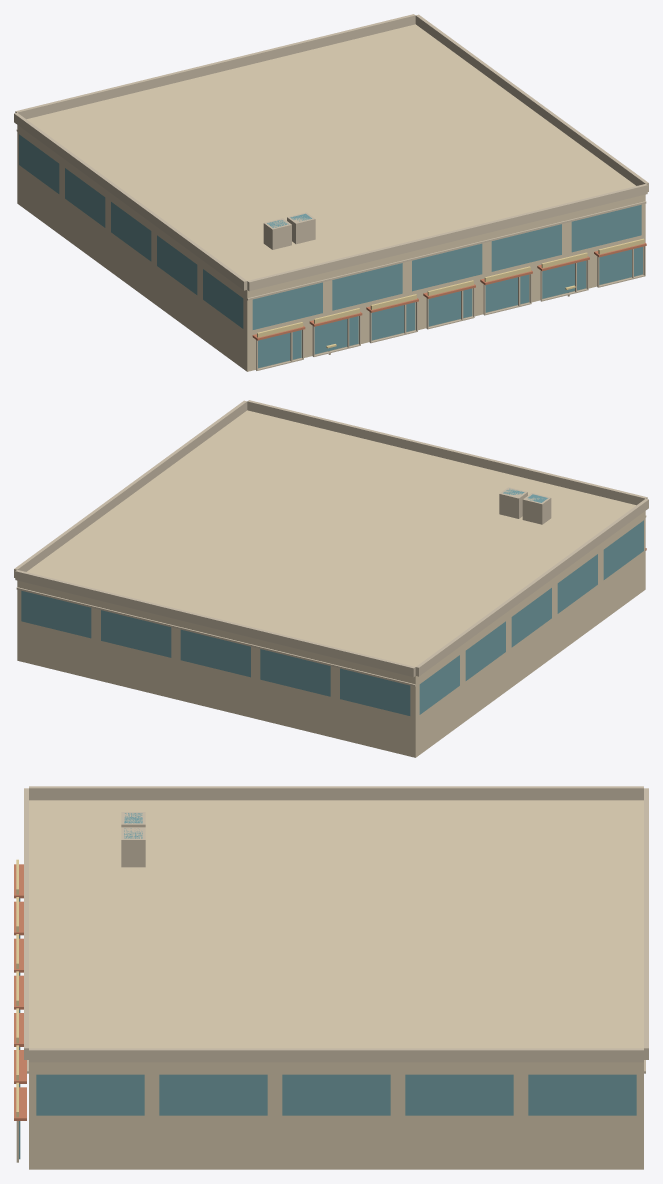
The model's file is commercial_4x4_a.glb.
The picture shows the model from 3 angles, top to bottom: view 1: azimuth 30°, elevation 25°; view 2: azimuth 150°, elevation 25°; view 3: azimuth 270°, elevation 25°; orthographic projection. The views are drawn at different scales.
Visible parts, largest first — view 1: commercial_4x4_a_0; view 2: commercial_4x4_a_0; view 3: commercial_4x4_a_0.
Boxes of the visible parts, left/top/right/bottom form: commercial_4x4_a_0: left=14, top=14, right=648, bottom=371; commercial_4x4_a_0: left=14, top=400, right=648, bottom=757; commercial_4x4_a_0: left=14, top=786, right=648, bottom=1169.
Size of the model in its own units: 31 by 7.5 by 31.5.
